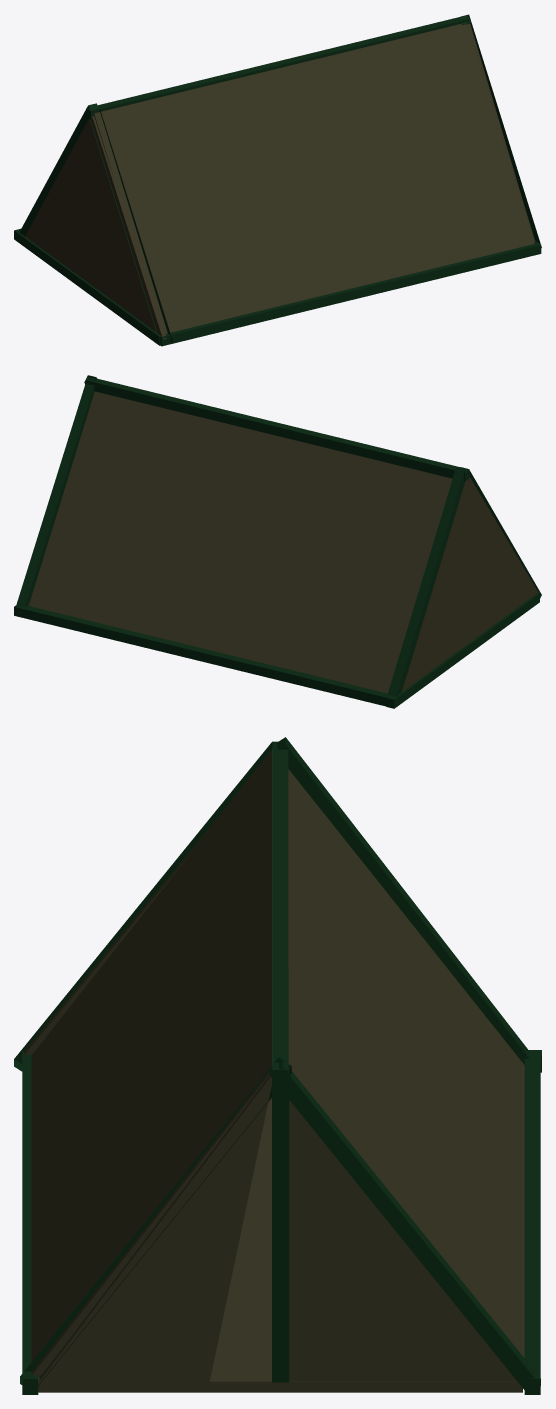
File: barak.fbx
3 renders of one model, top to bottom at view 1: azimuth 30°, elevation 25°; view 2: azimuth 150°, elevation 25°; view 3: azimuth 270°, elevation 25°, orthographic. The views are drawn at different scales.
Parts seen in each view (by area): view 1: Cube.011, Cube.002; view 2: Cube.011, Cube.002; view 3: Cube.011, Cube.002, Cube.
Boxes of the visible parts, x1,y1,x2,y2 form: Cube.011: [25, 23, 534, 339]; Cube.002: [14, 14, 541, 346]; Cube.011: [28, 391, 538, 693]; Cube.002: [14, 375, 541, 708]; Cube.011: [21, 749, 524, 1381]; Cube.002: [14, 737, 541, 1394]; Cube: [38, 1062, 522, 1392].
Size of the model in its own units: 505 by 238 by 342.
7 materials, 7 textured.
